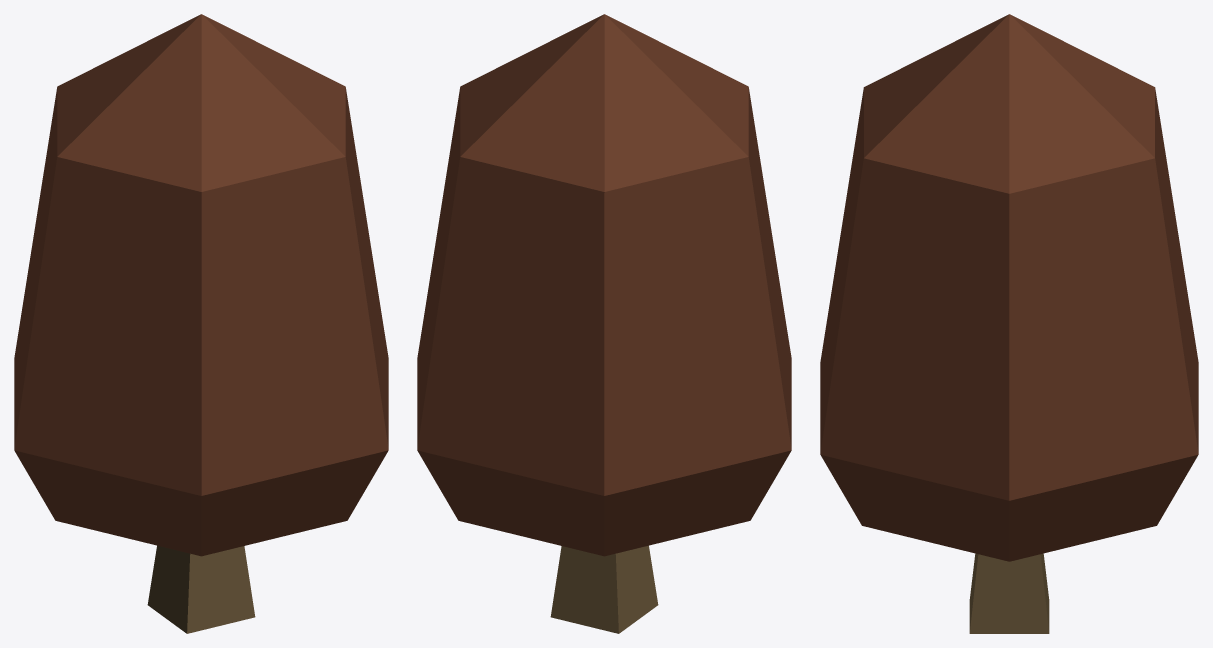
The model's file is Large_Oak_Fall_01.obj.
3 views of the same model, side by side, from view 1: azimuth 30°, elevation 25°; view 2: azimuth 150°, elevation 25°; view 3: azimuth 270°, elevation 25° (orthographic).
Parts seen in each view (by area): view 1: Mesh1_Large_Oak_Fall_Model; view 2: Mesh1_Large_Oak_Fall_Model; view 3: Mesh1_Large_Oak_Fall_Model.
Boxes of the visible parts, x1,y1,x2,y2 form: Mesh1_Large_Oak_Fall_Model: [14, 14, 388, 633]; Mesh1_Large_Oak_Fall_Model: [417, 14, 791, 633]; Mesh1_Large_Oak_Fall_Model: [820, 14, 1198, 633].
Bounding box in the file's own units: 3.02 × 4.6 × 2.62.
